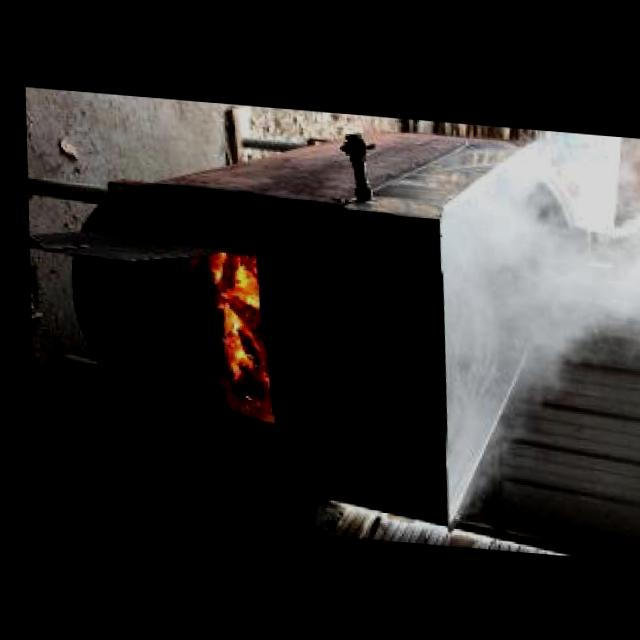helmet: (204, 250, 263, 382)
no_helmet: (403, 120, 640, 544)
